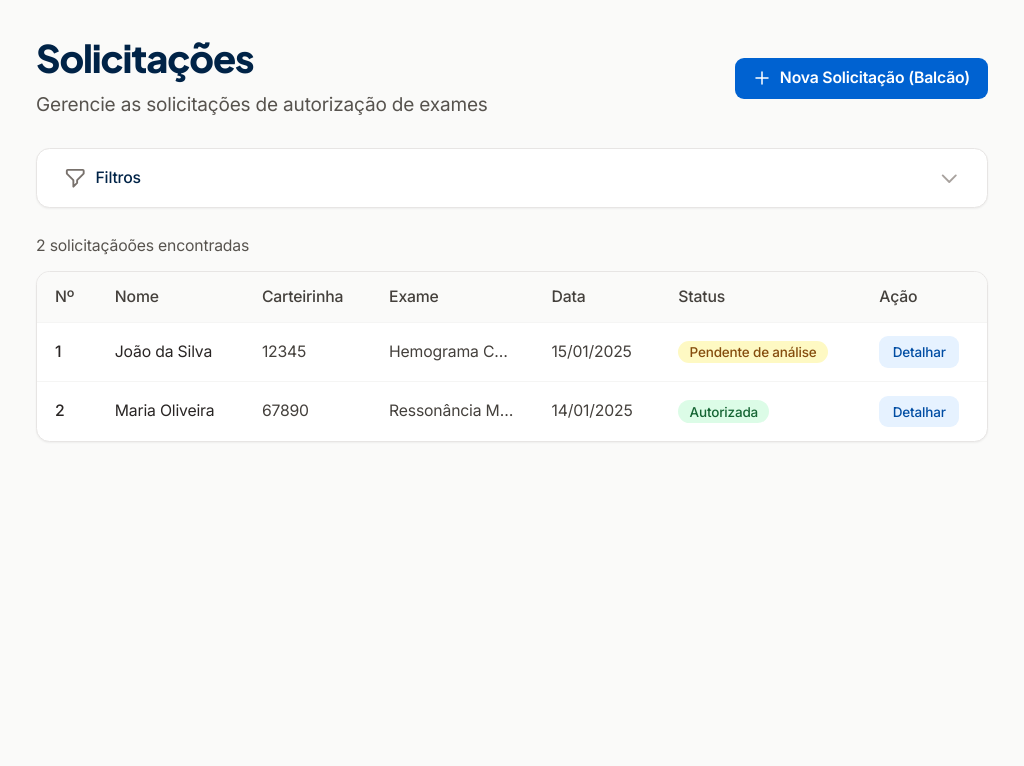
Test: AdminSolicitacoes › shows period validation error when end date is before start date
Expected: the text "João da Silva" is shown, [97, 322, 244, 382]
Expand filter panel
Click the button "Filtros" at (118,177), box [37, 149, 987, 208]
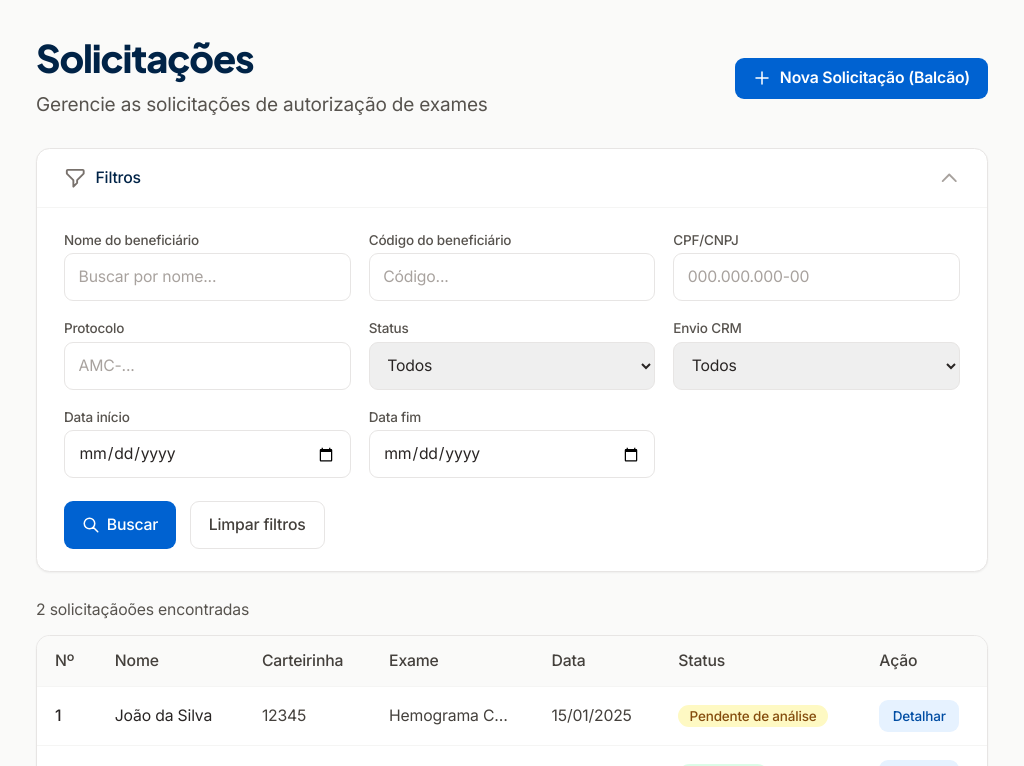
Enter invalid period
Type "2025-01-15" into the date field labelled "Data início" at (207,454), box [64, 430, 351, 478]
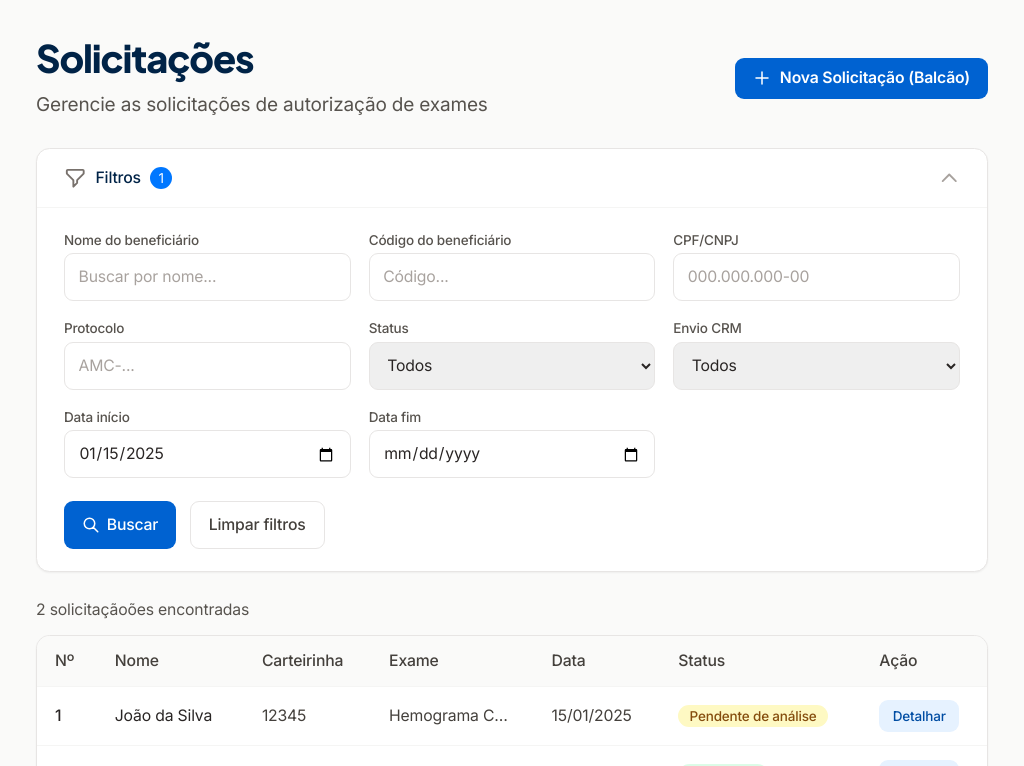
Type "2025-01-10" into the date field labelled "Data fim" at (512,454), box [369, 430, 655, 478]
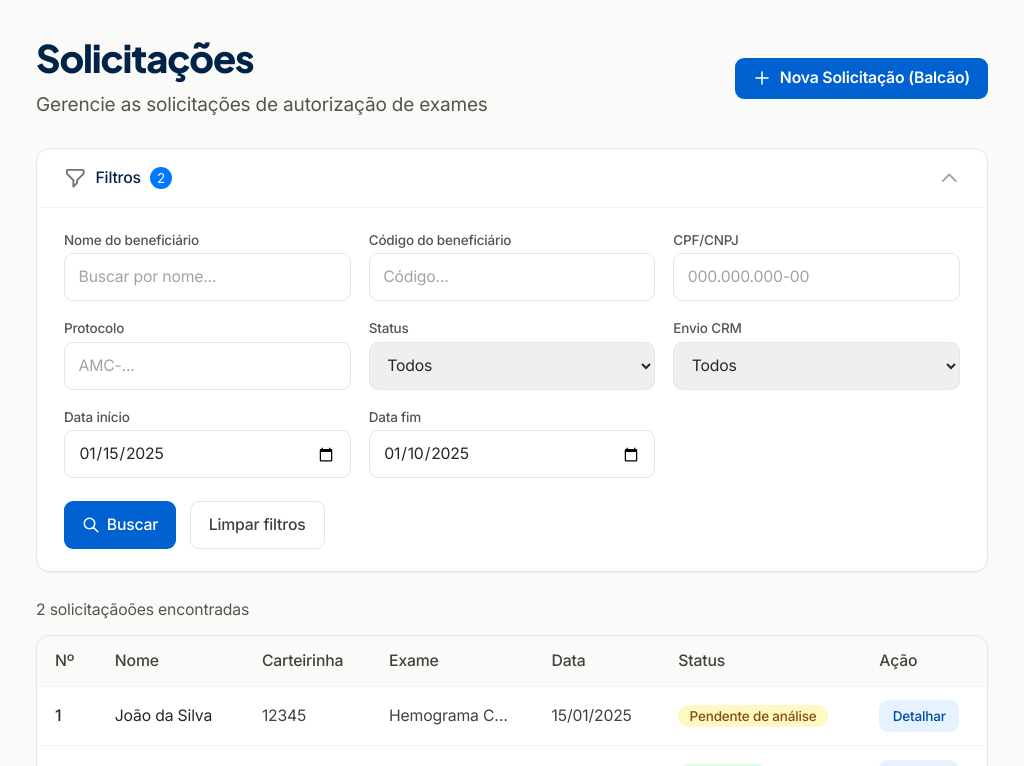
Click the button "Buscar" at (120,525), box [64, 501, 176, 549]
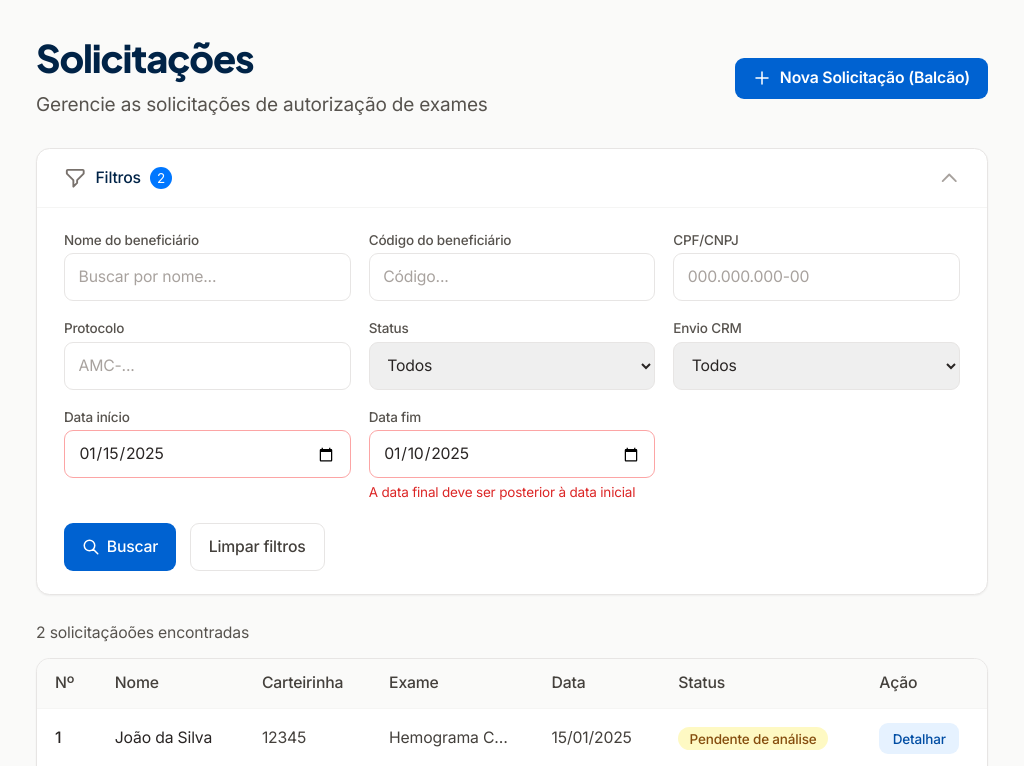
Now the text "A data final deve ser posterior à data inicial" is shown, box [369, 483, 655, 501]
